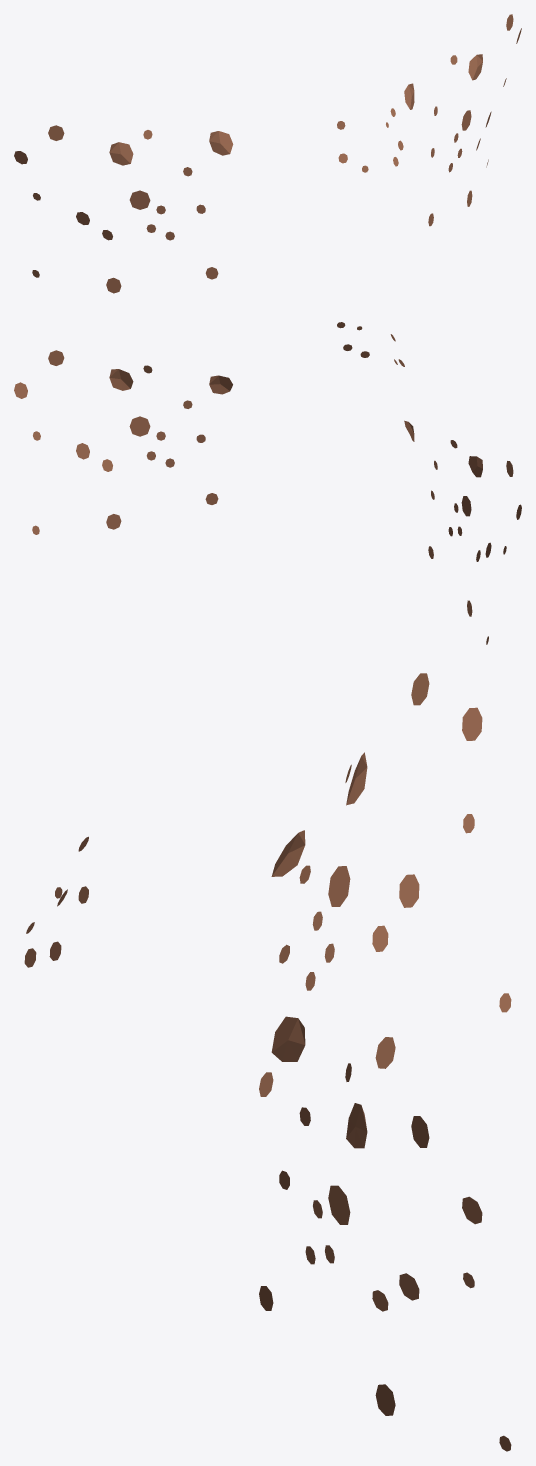
Rendered from miscFreckles.glb.
3 renders of one model, top to bottom at view 1: azimuth 30°, elevation 25°; view 2: azimuth 150°, elevation 25°; view 3: azimuth 270°, elevation 25°, orthographic. The views are drawn at different scales.
Parts seen in each view (by area): view 1: miscFreckles; view 2: miscFreckles; view 3: miscFreckles.
Part boxes in pixels (left/top/right/bottom): miscFreckles: left=14, top=14, right=521, bottom=293; miscFreckles: left=14, top=322, right=521, bottom=644; miscFreckles: left=24, top=673, right=511, bottom=1451.
Bounding box in the file's own units: 0.1605 × 0.0575 × 0.0667.
